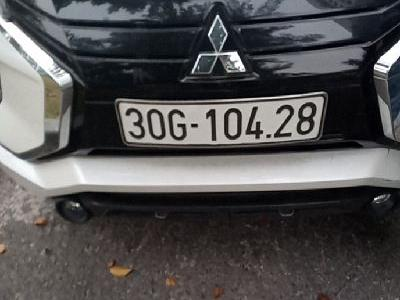lisence: (114, 91, 328, 149)
